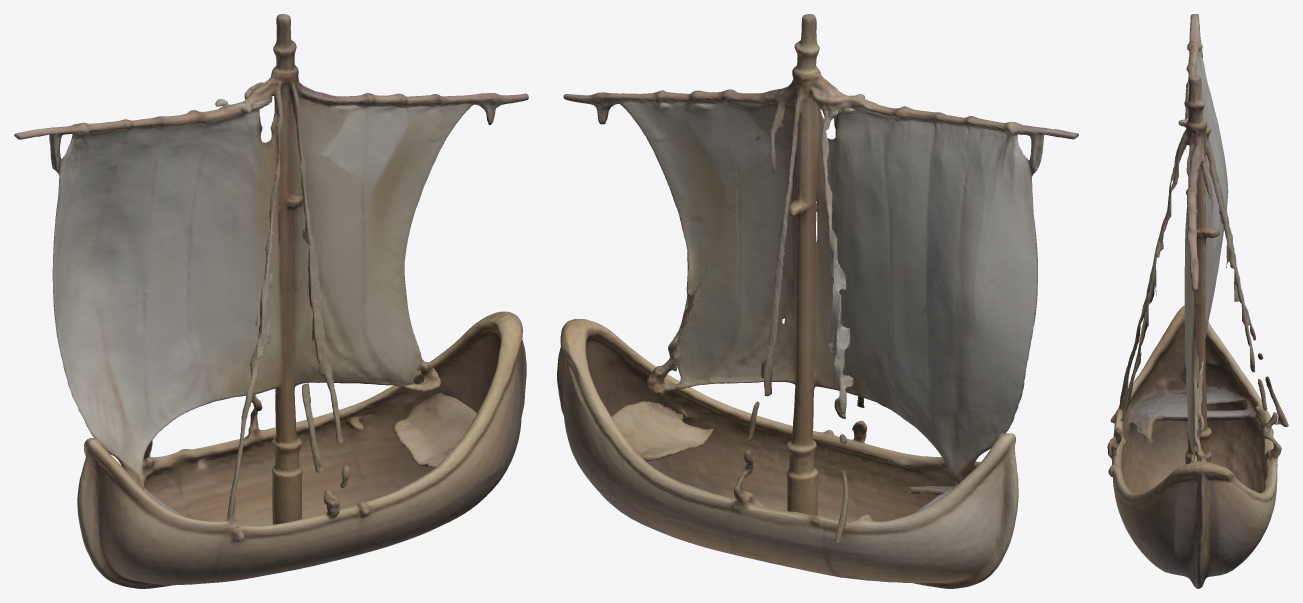
The model's file is model.meshopt.glb.
3 renders of one model, left to right at view 1: azimuth 30°, elevation 25°; view 2: azimuth 150°, elevation 25°; view 3: azimuth 270°, elevation 25°, orthographic. The views are drawn at different scales.
Parts seen in each view (by area): view 1: world; view 2: world; view 3: world.
Boxes of the visible parts, <box> form: world: <box>14,14,528,588</box>; world: <box>557,14,1078,588</box>; world: <box>1107,14,1288,588</box>.
Size of the model in its own units: 0.9904 by 0.9985 by 0.3674.
